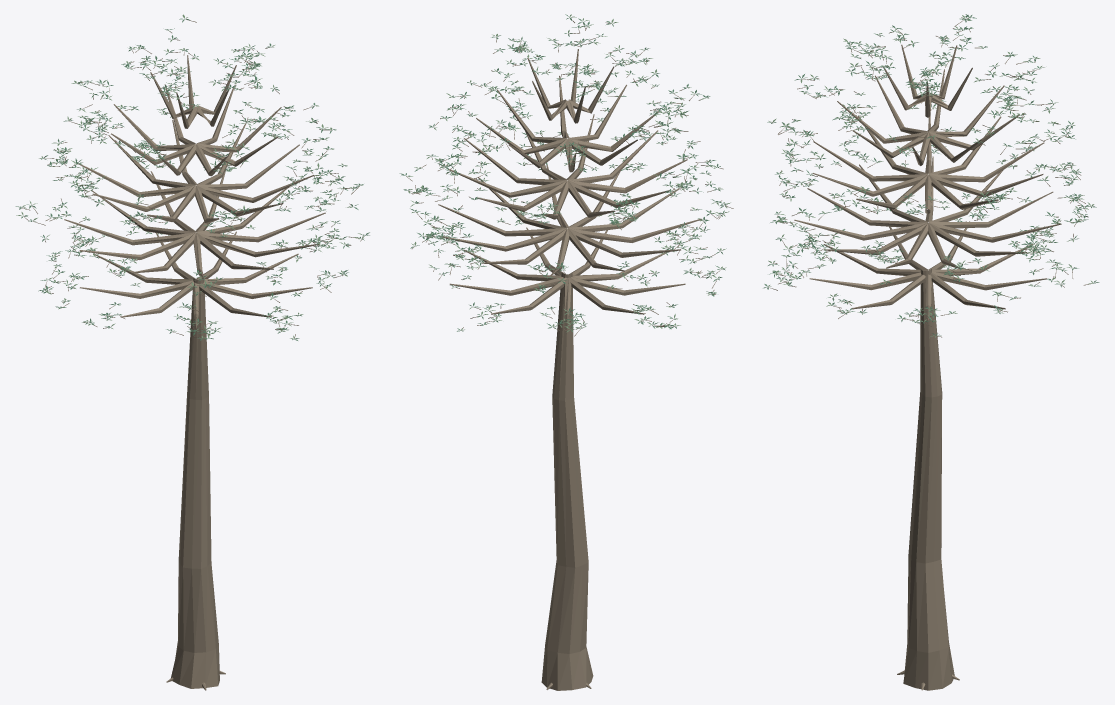
The model's file is E07_R2Z2_ARAUCARIA_EM_PE_CANDIDATO_REV01.glb.
The picture shows the model from 3 angles, left to right: view 1: azimuth 30°, elevation 25°; view 2: azimuth 150°, elevation 25°; view 3: azimuth 270°, elevation 25°; orthographic projection. The views are drawn at different scales.
Parts seen in each view (by area): view 1: E07_R2Z2_bark, E07_R2Z2_twig, E07_R2Z2_leaf3, E07_R2Z2_leaf4, E07_R2Z2_leaf0, E07_R2Z2_leaf2, E07_R2Z2_leaf1; view 2: E07_R2Z2_bark, E07_R2Z2_twig, E07_R2Z2_leaf2, E07_R2Z2_leaf4, E07_R2Z2_leaf0, E07_R2Z2_leaf1, E07_R2Z2_leaf3; view 3: E07_R2Z2_bark, E07_R2Z2_twig, E07_R2Z2_leaf2, E07_R2Z2_leaf4, E07_R2Z2_leaf3, E07_R2Z2_leaf1, E07_R2Z2_leaf0.
Part boxes in pixels (x1,y1,x2,y2): E07_R2Z2_bark: (64,55,325,690); E07_R2Z2_twig: (21,19,363,338); E07_R2Z2_leaf3: (16,14,364,338); E07_R2Z2_leaf4: (21,17,363,338); E07_R2Z2_leaf0: (19,19,364,339); E07_R2Z2_leaf2: (20,18,369,339); E07_R2Z2_leaf1: (15,19,369,340); E07_R2Z2_bark: (438,49,701,690); E07_R2Z2_twig: (406,19,733,336); E07_R2Z2_leaf2: (405,14,726,331); E07_R2Z2_leaf4: (406,16,729,330); E07_R2Z2_leaf0: (401,18,725,331); E07_R2Z2_leaf1: (399,18,723,331); E07_R2Z2_leaf3: (408,14,730,332); E07_R2Z2_bark: (794,44,1060,690); E07_R2Z2_twig: (768,17,1091,337); E07_R2Z2_leaf2: (764,17,1093,335); E07_R2Z2_leaf4: (769,15,1094,336); E07_R2Z2_leaf3: (768,17,1092,337); E07_R2Z2_leaf1: (763,15,1099,334); E07_R2Z2_leaf0: (767,14,1096,334).
Bounding box in the file's own units: 5.44 × 10.9 × 5.18.
